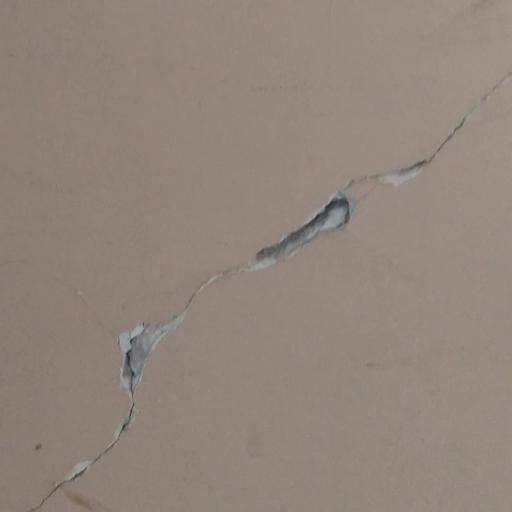major_crack: (37, 54, 512, 512)
